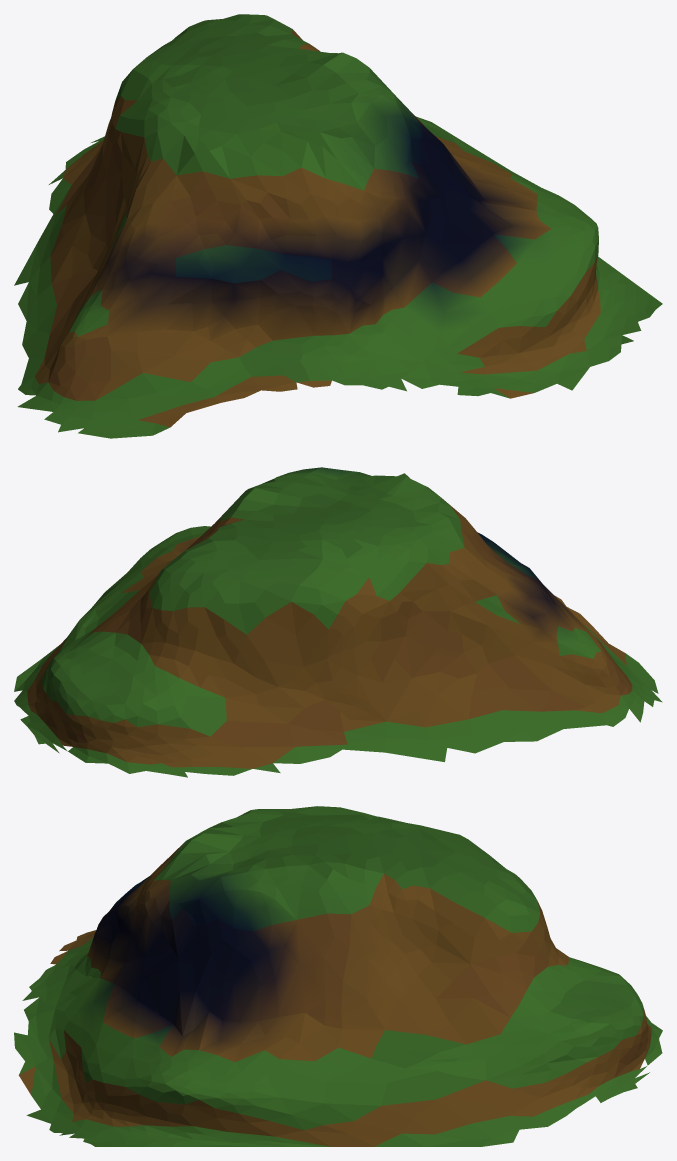
Rendered from wienksza_gurka.fbx.
3 renders of one model, top to bottom at view 1: azimuth 30°, elevation 25°; view 2: azimuth 150°, elevation 25°; view 3: azimuth 270°, elevation 25°, orthographic. The views are drawn at different scales.
Parts seen in each view (by area): view 1: zielone 1.001; view 2: zielone 1.001; view 3: zielone 1.001.
Boxes of the visible parts, left/top/right/bottom form: zielone 1.001: left=14, top=14, right=662, bottom=438; zielone 1.001: left=14, top=467, right=662, bottom=777; zielone 1.001: left=14, top=806, right=662, bottom=1146.
Bounding box in the file's own units: 881 × 341 × 925.
